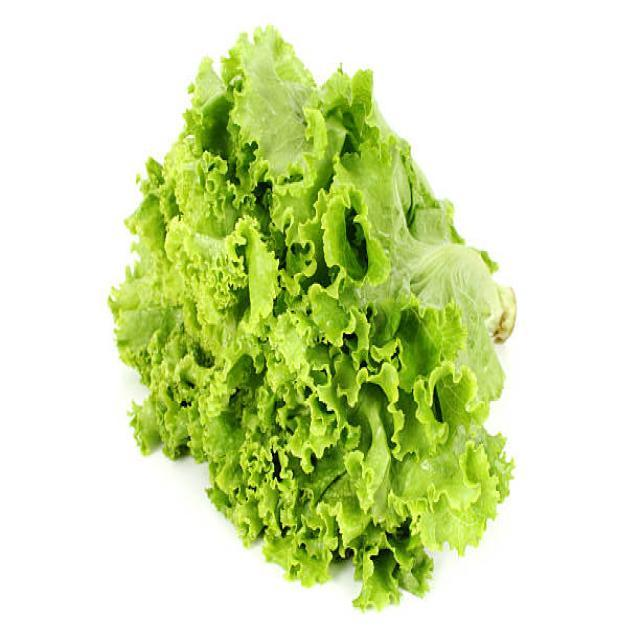Lettuce-Ready-to-Harvest: (101, 23, 527, 614)
